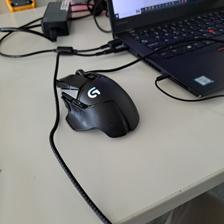mouse: (54, 67, 140, 139)
